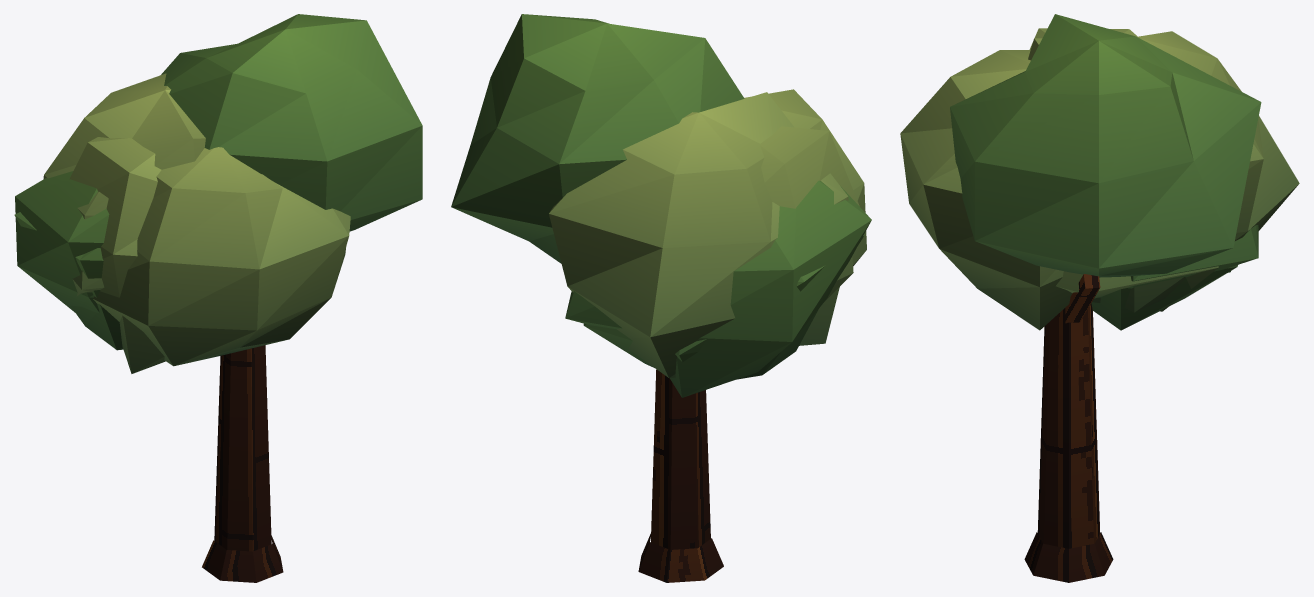
Rendered from apple_2_lowpoly.glb.
3 renders of one model, left to right at view 1: azimuth 30°, elevation 25°; view 2: azimuth 150°, elevation 25°; view 3: azimuth 270°, elevation 25°, orthographic. The views are drawn at different scales.
Visible parts, largest first — view 1: apple_2_lowpoly; view 2: apple_2_lowpoly; view 3: apple_2_lowpoly.
Boxes of the visible parts, x1=… form: apple_2_lowpoly: x1=14, y1=14, x2=422, y2=582; apple_2_lowpoly: x1=451, y1=14, x2=871, y2=582; apple_2_lowpoly: x1=900, y1=14, x2=1299, y2=582.
Size of the model in its own units: 3.58 by 4.81 by 3.15.
2 materials, 1 textured.
